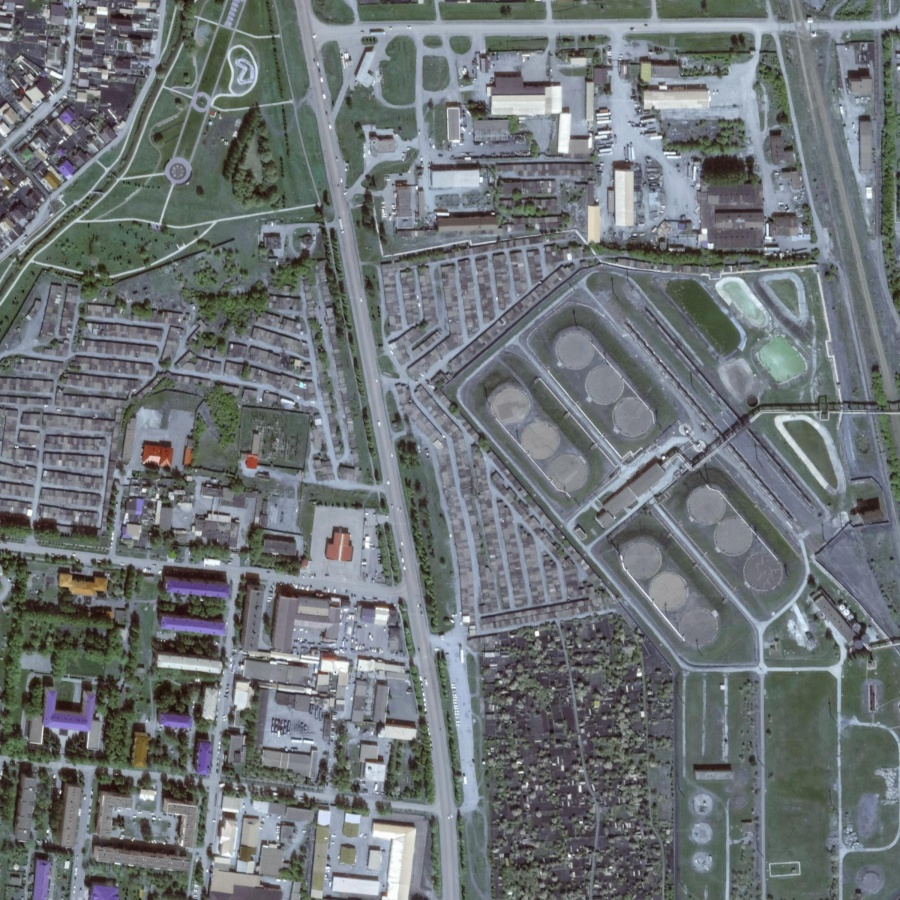PowerPlant: (472, 290, 805, 656)
